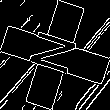N_E: (25, 28, 85, 82)
